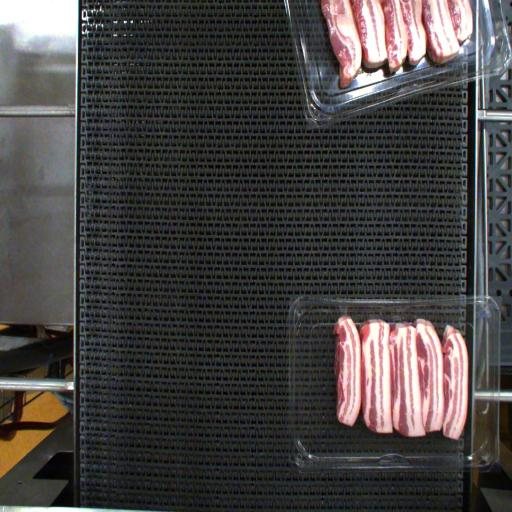packaging-error: (336, 302, 350, 316)
